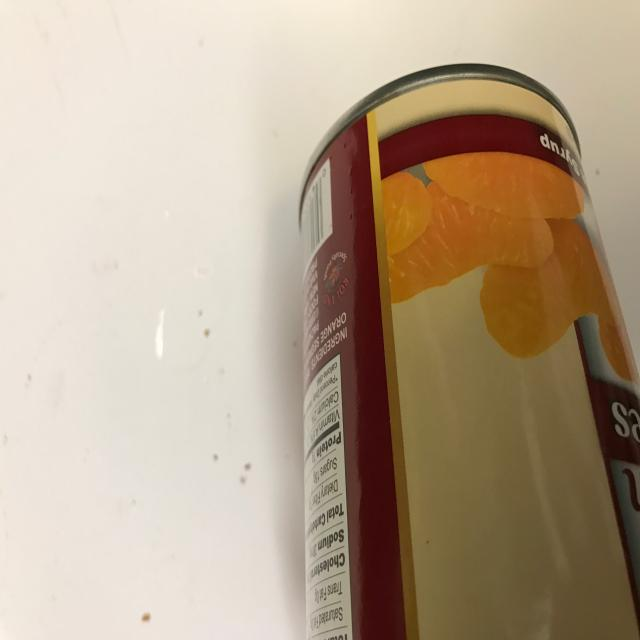metal: (298, 62, 639, 639)
